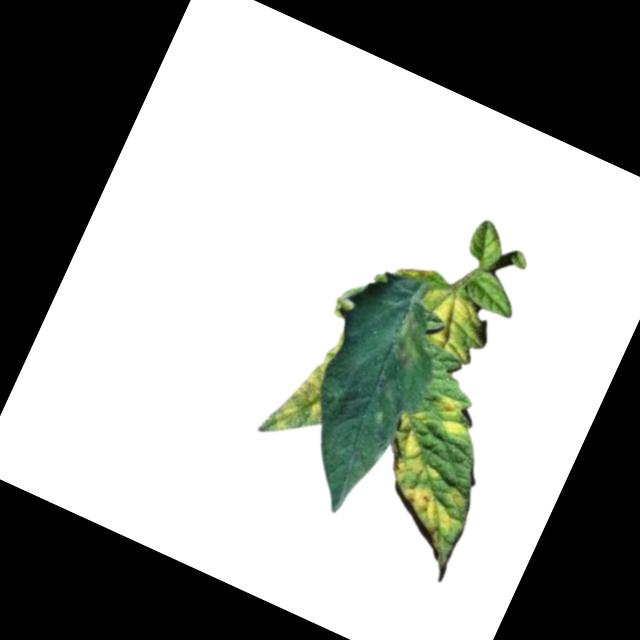Leaf_Mold: (356, 410, 495, 556), (253, 338, 348, 453), (407, 282, 496, 364), (381, 307, 434, 374), (426, 390, 479, 445)
